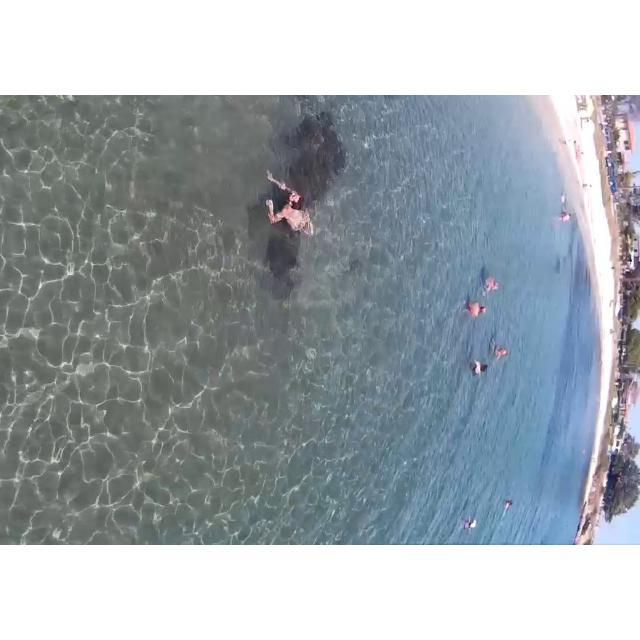human: (253, 161, 330, 263), (481, 260, 502, 301), (490, 330, 512, 366), (456, 510, 483, 539), (473, 351, 492, 391), (459, 294, 483, 323), (501, 494, 516, 518)
